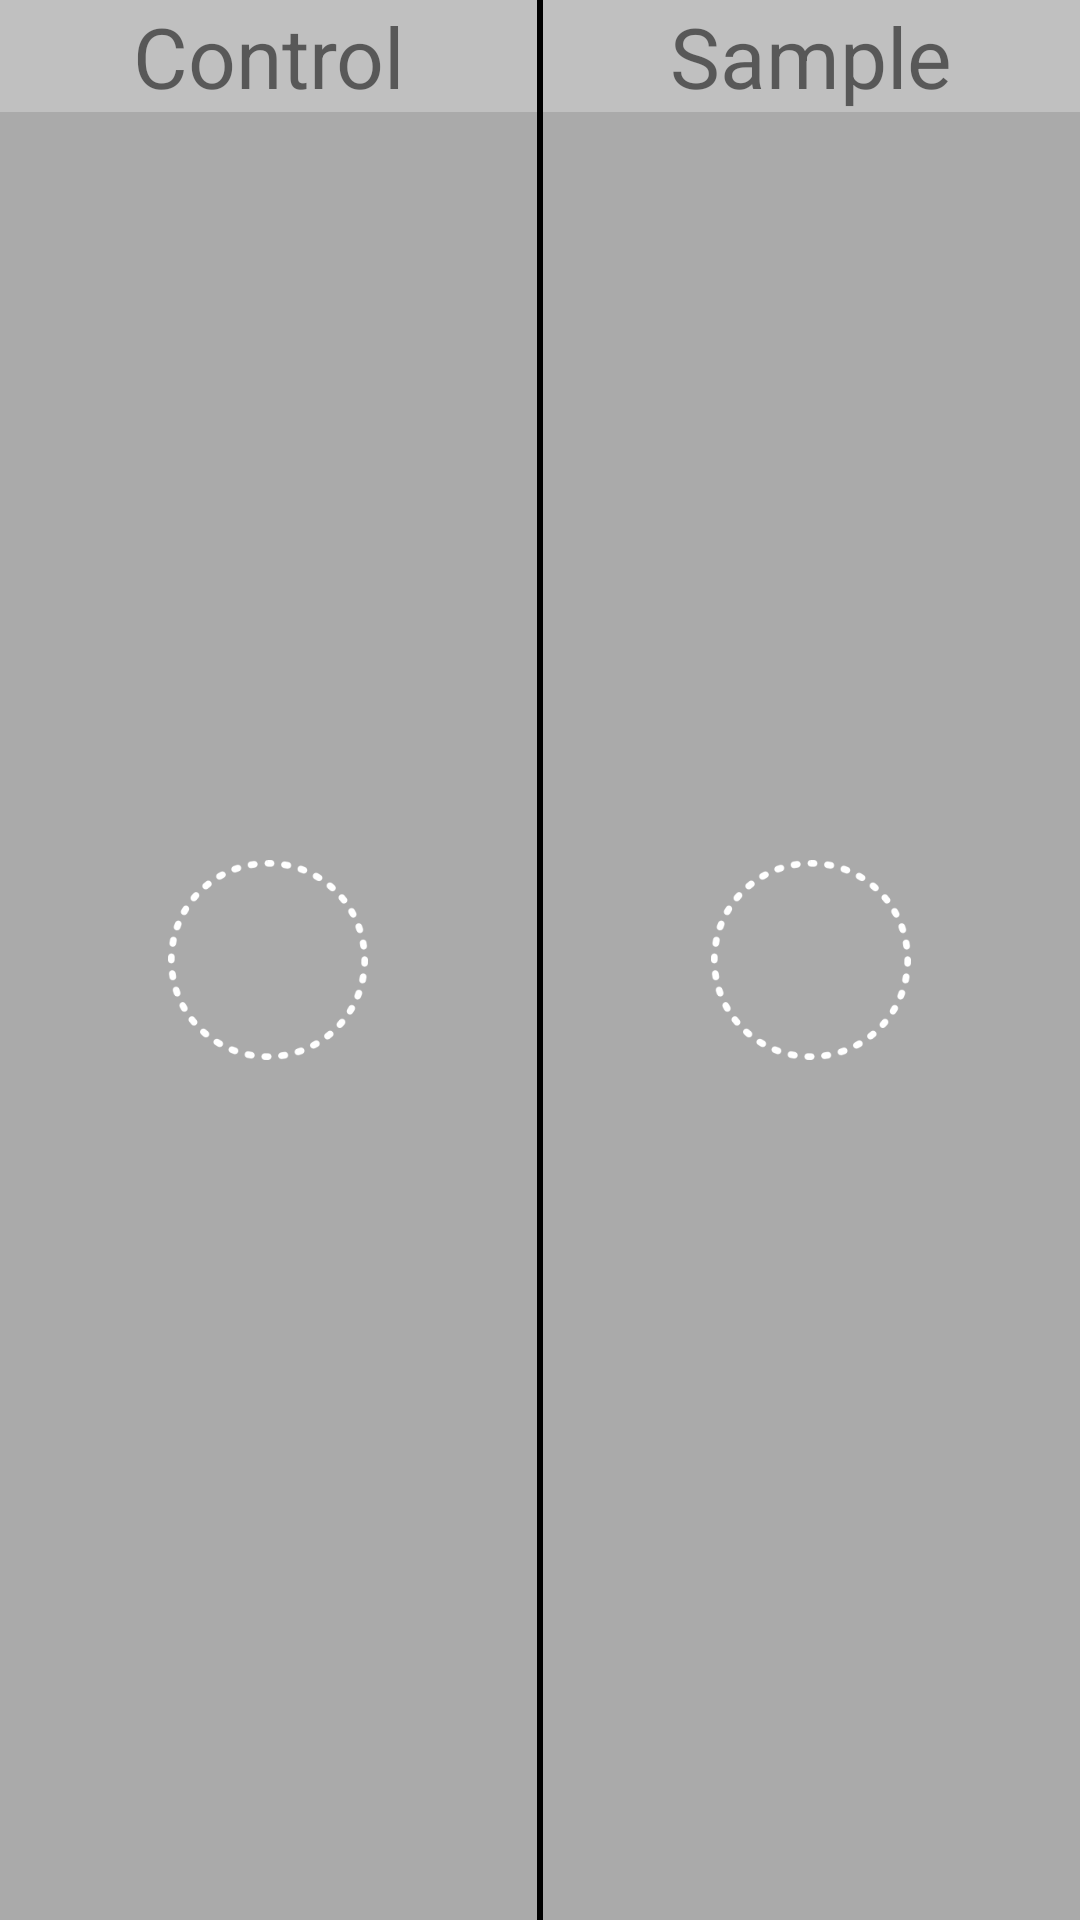

Icons on this 1080x1920 Android screen, each with its box as (x1, y1, x2, y2):
circle: (168, 860, 368, 1060), (711, 860, 911, 1060)
